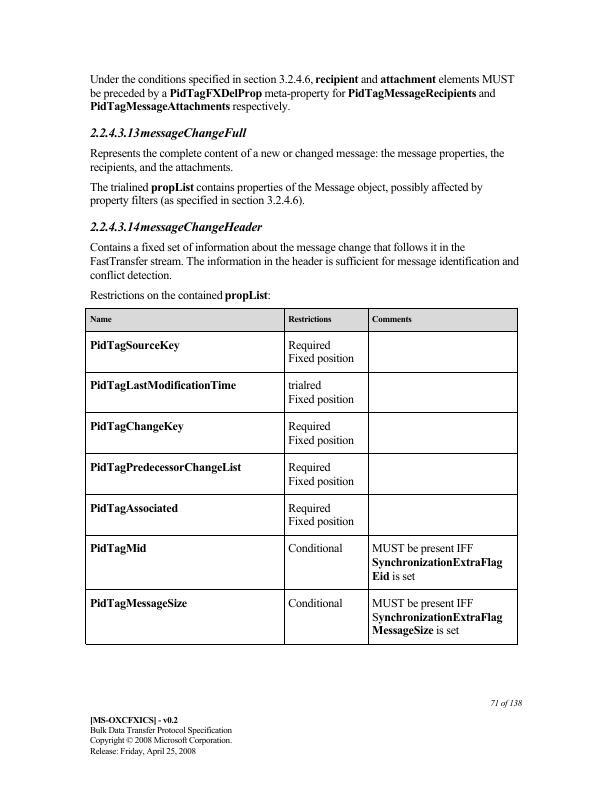table: (86, 307, 520, 648)
text: (86, 72, 525, 115), (88, 238, 523, 281), (86, 145, 508, 172), (88, 179, 487, 207), (87, 714, 235, 757), (87, 217, 264, 236), (88, 122, 255, 139), (88, 289, 271, 303), (487, 697, 527, 709)
